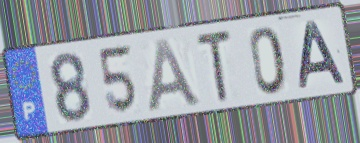0: (248, 25, 288, 96)
5: (95, 45, 140, 118)
8: (47, 51, 93, 126)
A: (146, 37, 205, 115), (298, 19, 349, 91)
T: (194, 28, 234, 106)
